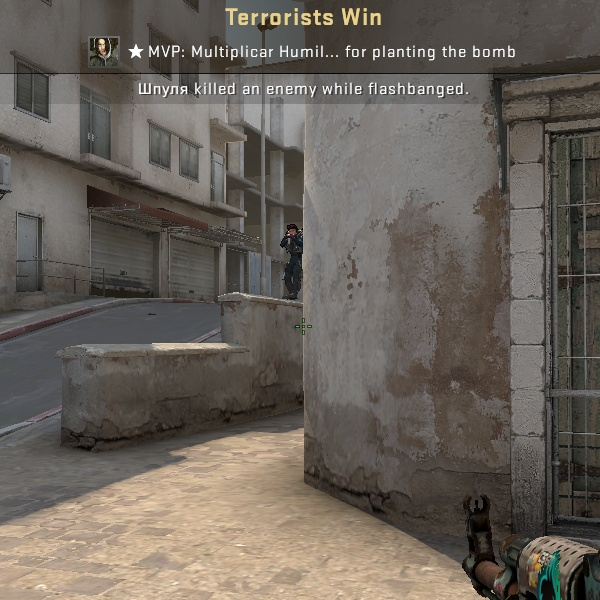ct_body: (272, 219, 311, 298)
ct_head: (284, 221, 303, 239)
